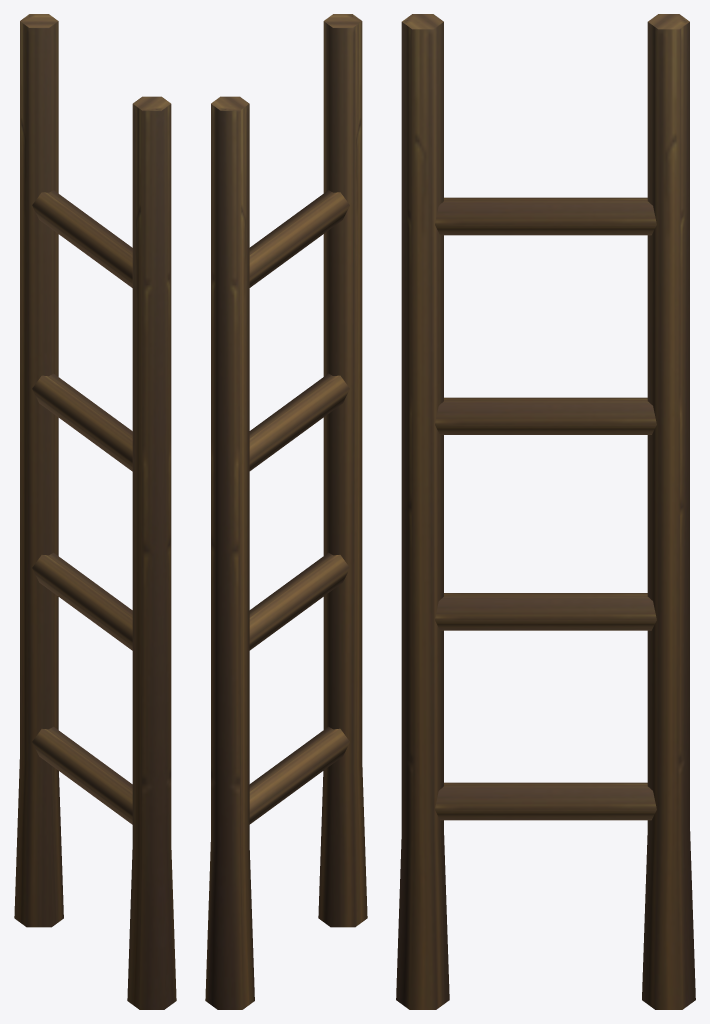
File: Lty_tizi02.FBX
3 renders of one model, left to right at view 1: azimuth 30°, elevation 25°; view 2: azimuth 150°, elevation 25°; view 3: azimuth 270°, elevation 25°, orthographic. The views are drawn at different scales.
Parts seen in each view (by area): view 1: Lty_tizi02; view 2: Lty_tizi02; view 3: Lty_tizi02.
Boxes of the visible parts, x1,y1,x2,y2 form: Lty_tizi02: [14, 14, 176, 1009]; Lty_tizi02: [205, 14, 367, 1009]; Lty_tizi02: [396, 14, 695, 1009].
Size of the model in its own units: 13.52 by 86.65 by 312.
